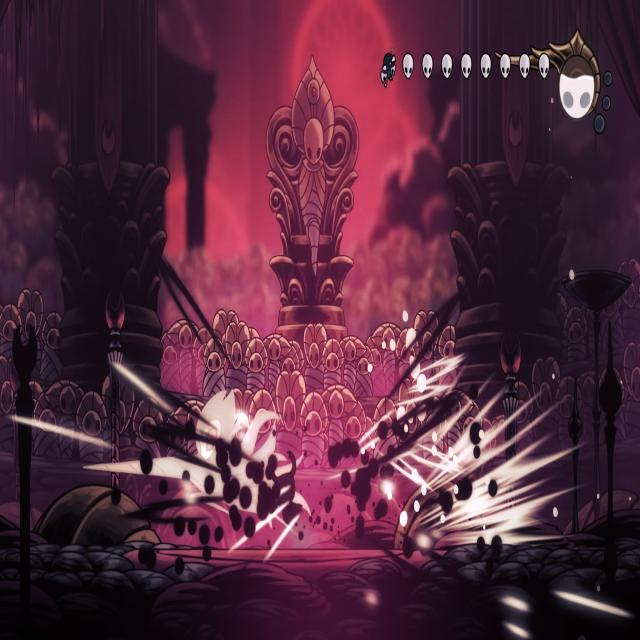Dive Dash: (80, 379, 310, 546)
Player: (268, 447, 304, 530)
